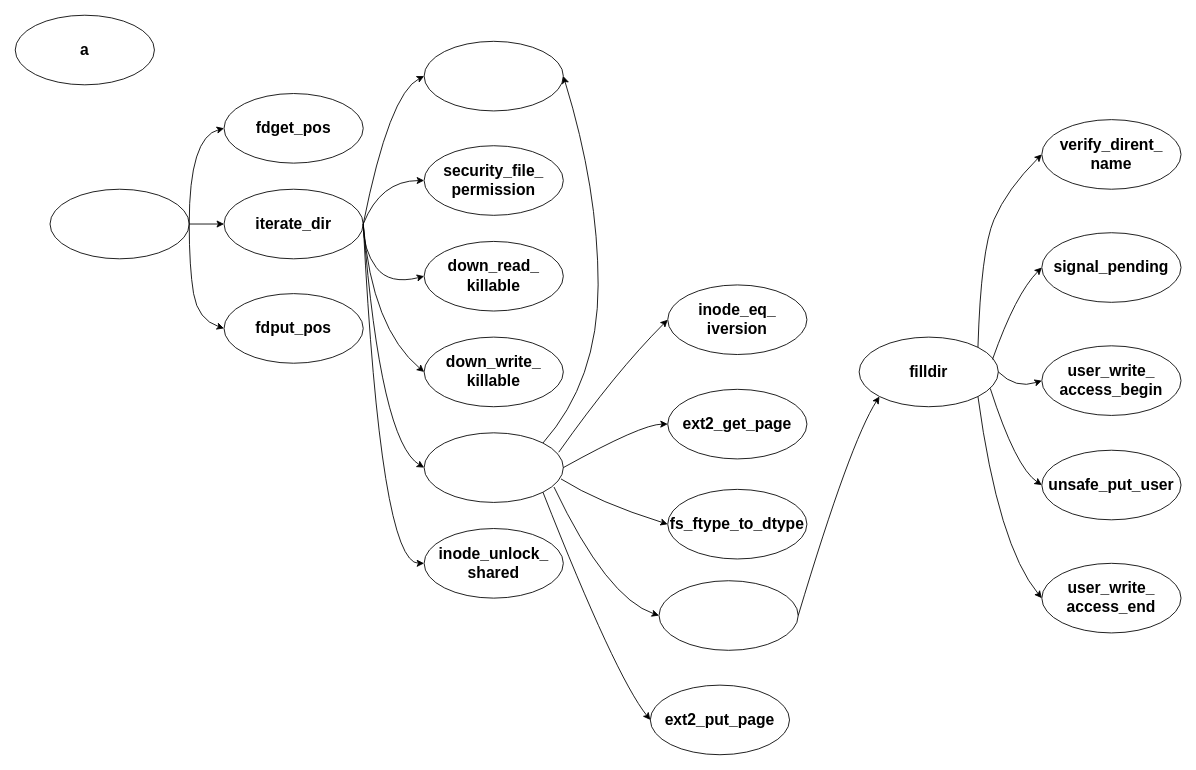
Image size: 1196x770. Some labels were removed from this diagram. Each missing label, with the box of its shape:
dir_emit: (658, 580, 798, 650)
ext2_readdir: (423, 432, 563, 502)
file_inode: (423, 40, 563, 111)
getdents: (49, 188, 189, 259)
